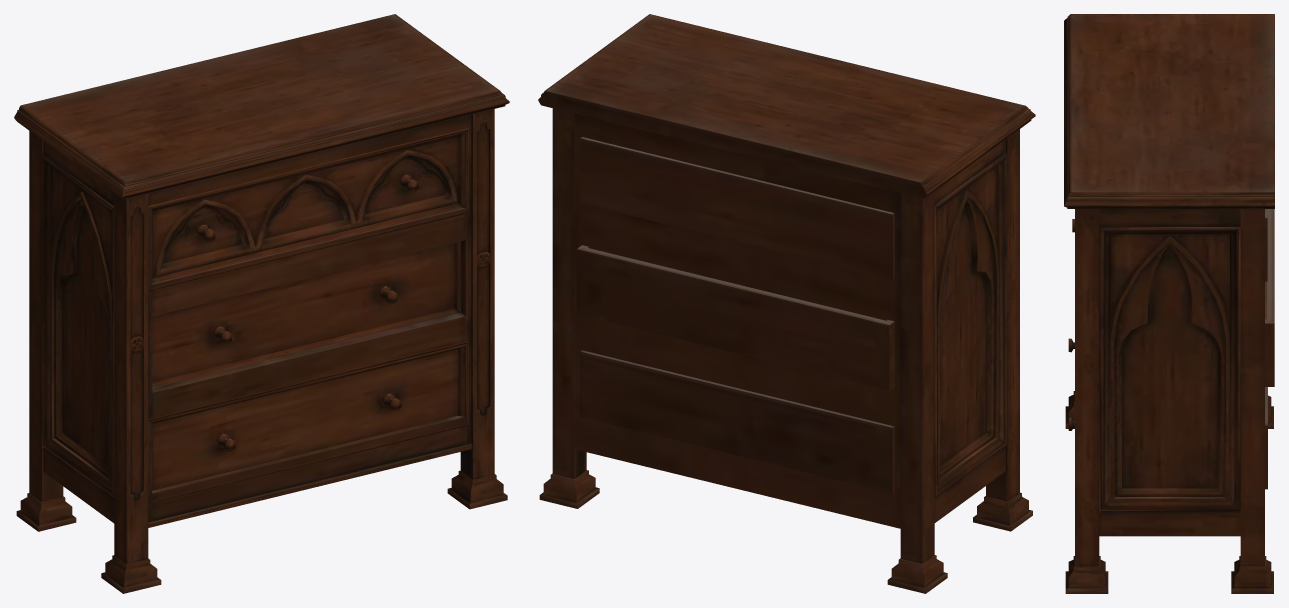
File: GothicCommode_01.glb
3 views of the same model, side by side, from view 1: azimuth 30°, elevation 25°; view 2: azimuth 150°, elevation 25°; view 3: azimuth 270°, elevation 25° (orthographic). The views are drawn at different scales.
Visible parts, largest first — view 1: GothicCommode_01; view 2: GothicCommode_01; view 3: GothicCommode_01.
Part boxes in pixels (bbox=[...]): GothicCommode_01: bbox=[14, 14, 509, 593]; GothicCommode_01: bbox=[538, 14, 1035, 593]; GothicCommode_01: bbox=[1064, 14, 1274, 593].
Size of the model in its own units: 1.2 by 1.21 by 0.5806.
1 material, 1 textured.
